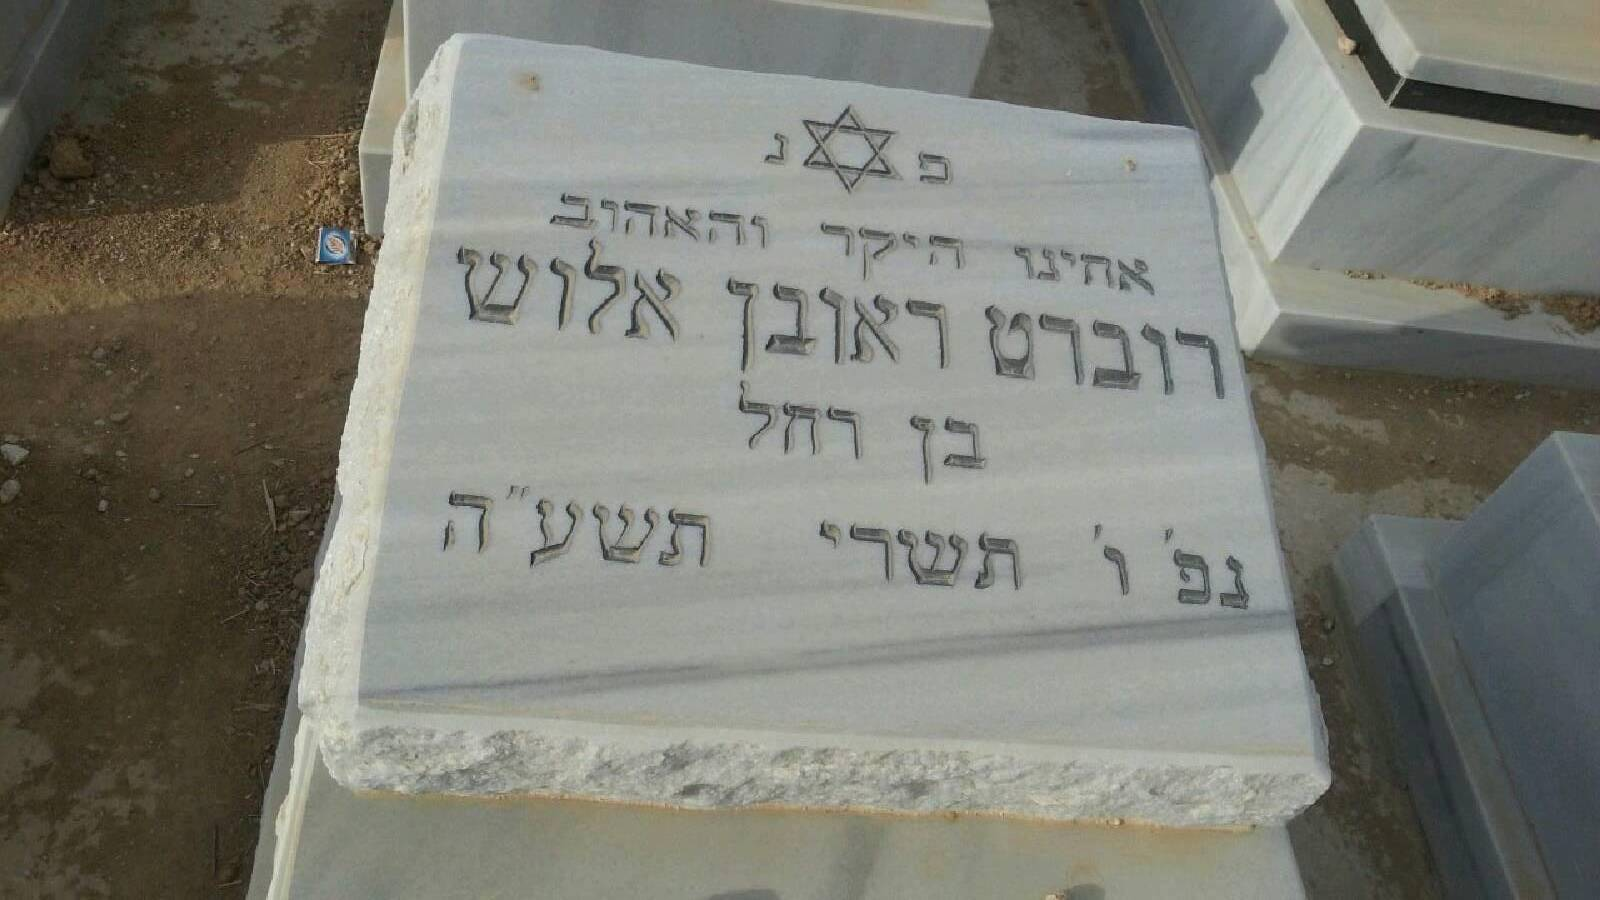flat: (301, 36, 1331, 816)
